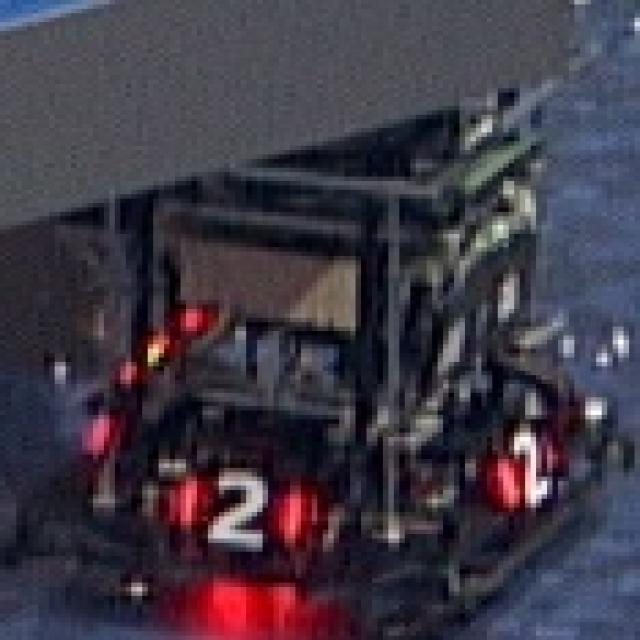R2: (175, 463, 306, 552), (492, 419, 564, 516)
